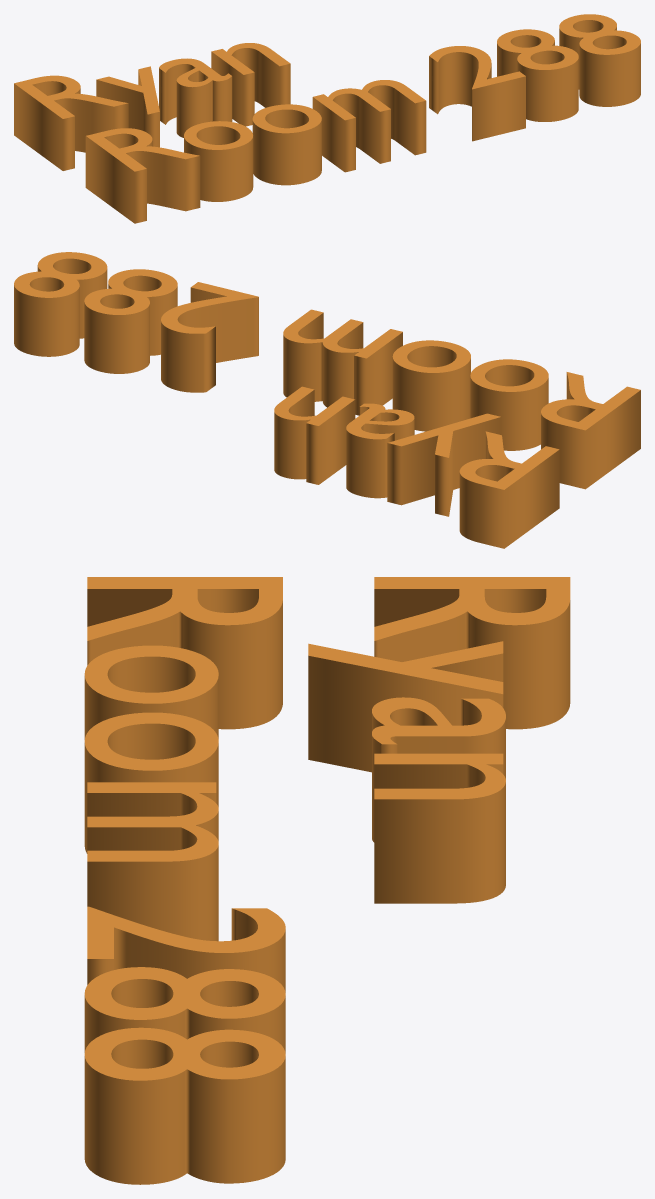
Rendered from ryan-288.gltf.
The picture shows the model from 3 angles, top to bottom: view 1: azimuth 30°, elevation 25°; view 2: azimuth 150°, elevation 25°; view 3: azimuth 270°, elevation 25°; orthographic projection. The views are drawn at different scales.
Parts seen in each view (by area): view 1: Text; view 2: Text; view 3: Text.
Boxes of the visible parts, bbox=[...] form: Text: bbox=[14, 14, 640, 223]; Text: bbox=[14, 252, 640, 548]; Text: bbox=[84, 577, 570, 1184].
Bounding box in the file's own units: 4.15 × 0.4 × 1.69.
